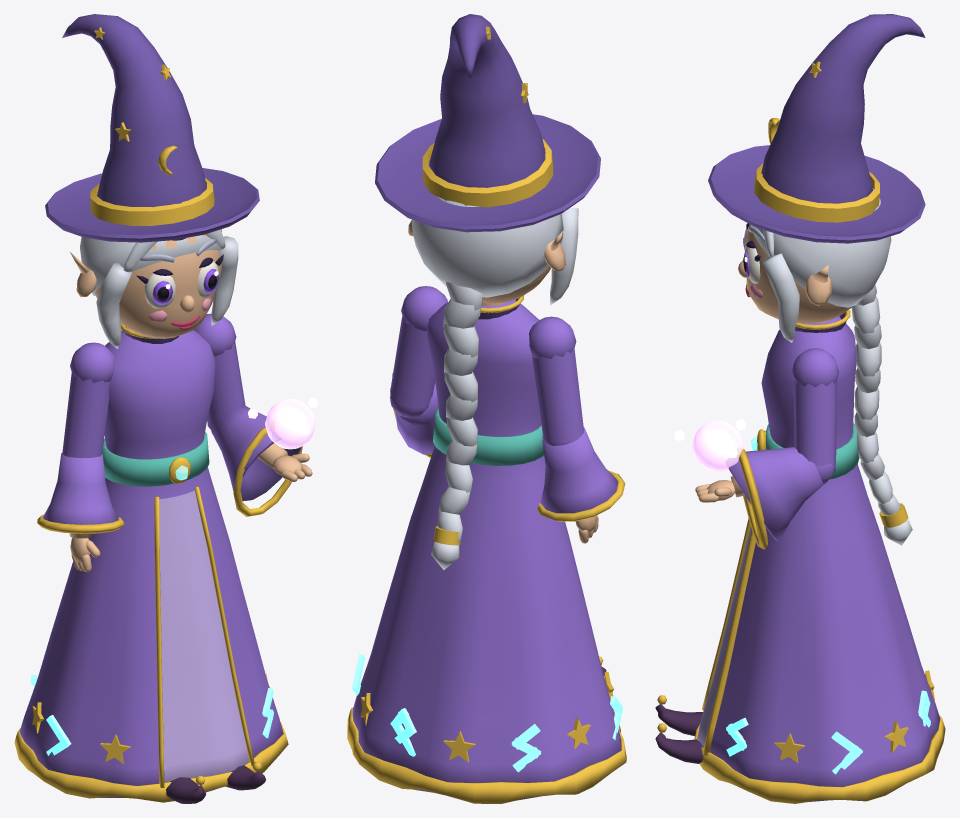
File: npc_lirael.glb
The picture shows the model from 3 angles, left to right: view 1: azimuth 30°, elevation 25°; view 2: azimuth 150°, elevation 25°; view 3: azimuth 270°, elevation 25°; orthographic projection. The views are drawn at different scales.
Visible parts, largest first — view 1: Body, Head, ArmL, ArmR; view 2: Body, Head, ArmR, ArmL; view 3: Body, Head, ArmL.
Boxes of the visible parts, x1,y1,x2,y2 form: Body: [14, 323, 288, 803]; Head: [45, 14, 259, 348]; ArmL: [194, 313, 318, 516]; ArmR: [37, 342, 124, 572]; Body: [347, 281, 626, 803]; Head: [375, 14, 600, 305]; ArmR: [529, 316, 625, 543]; ArmL: [390, 286, 448, 457]; Body: [655, 284, 945, 803]; Head: [708, 14, 925, 342]; ArmL: [674, 348, 839, 549].
Bounding box in the file's own units: 0.8589 × 2.42 × 0.8727.
